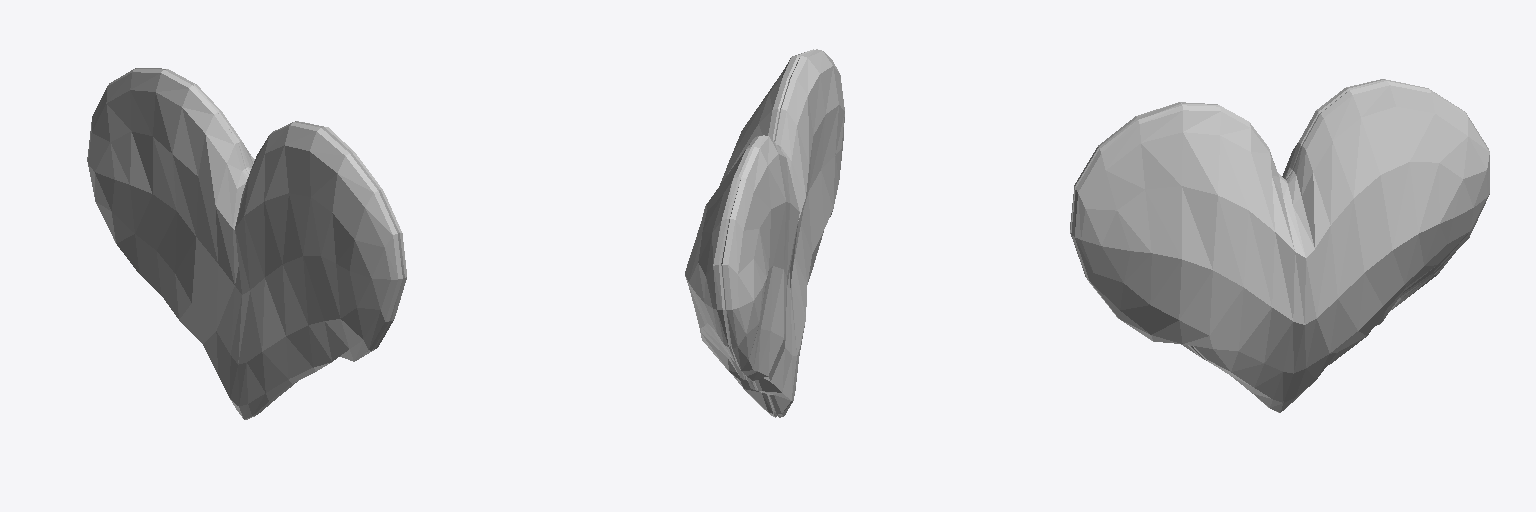
Rendered from heartobj.obj.
3 views of the same model, side by side, from view 1: azimuth 30°, elevation 25°; view 2: azimuth 150°, elevation 25°; view 3: azimuth 270°, elevation 25° (orthographic).
Visible parts, largest first — view 1: pillows_mesh; view 2: pillows_mesh; view 3: pillows_mesh.
Part boxes in pixels (x1,y1,x2,y2): pillows_mesh: (87, 68, 406, 419); pillows_mesh: (685, 49, 844, 417); pillows_mesh: (1070, 79, 1489, 412).
Bounding box in the file's own units: 0.1108 × 0.2305 × 0.2738.